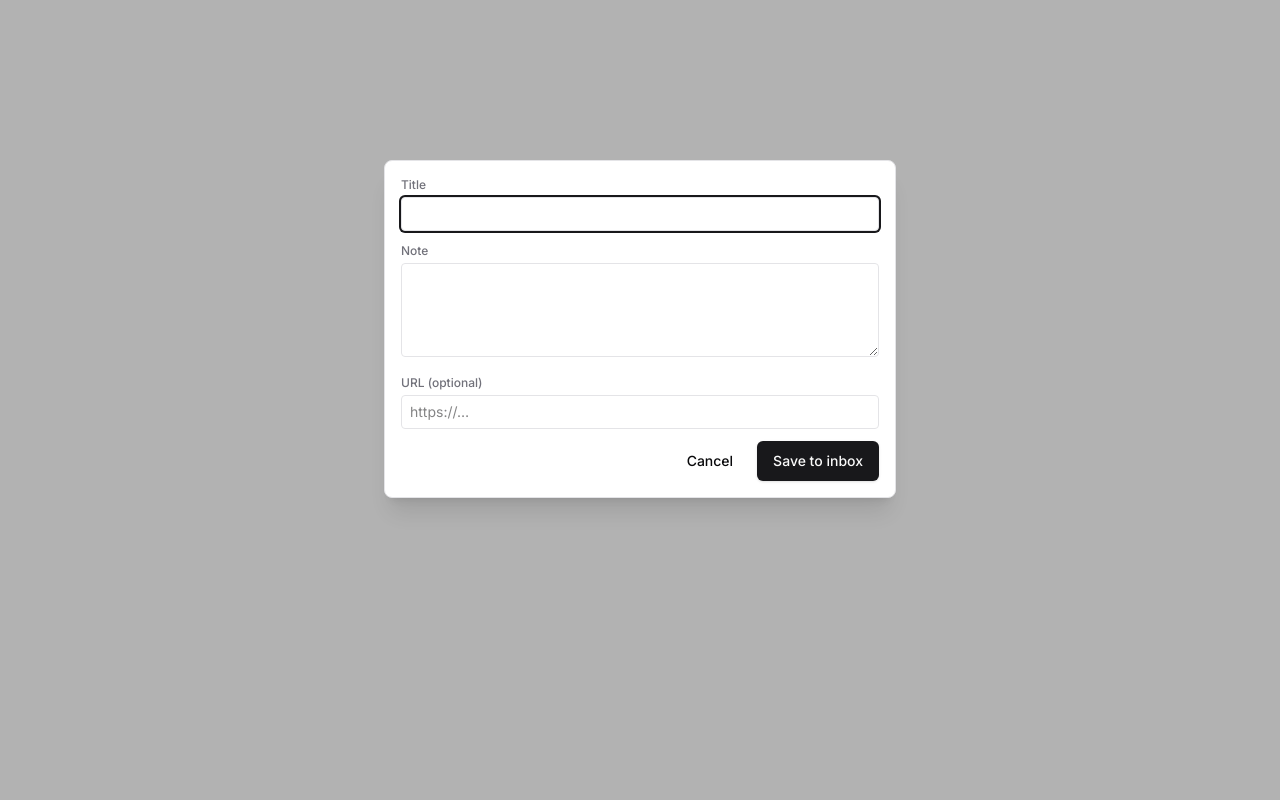
Scenario: <QuickCaptureModal> › stays open + surfaces the error on a non-2xx response
The image size is (1280, 800).
Type "X" into the field labelled "Title".
click(640, 214); type("X")  # box top-left (401, 197), bottom-right (879, 231)
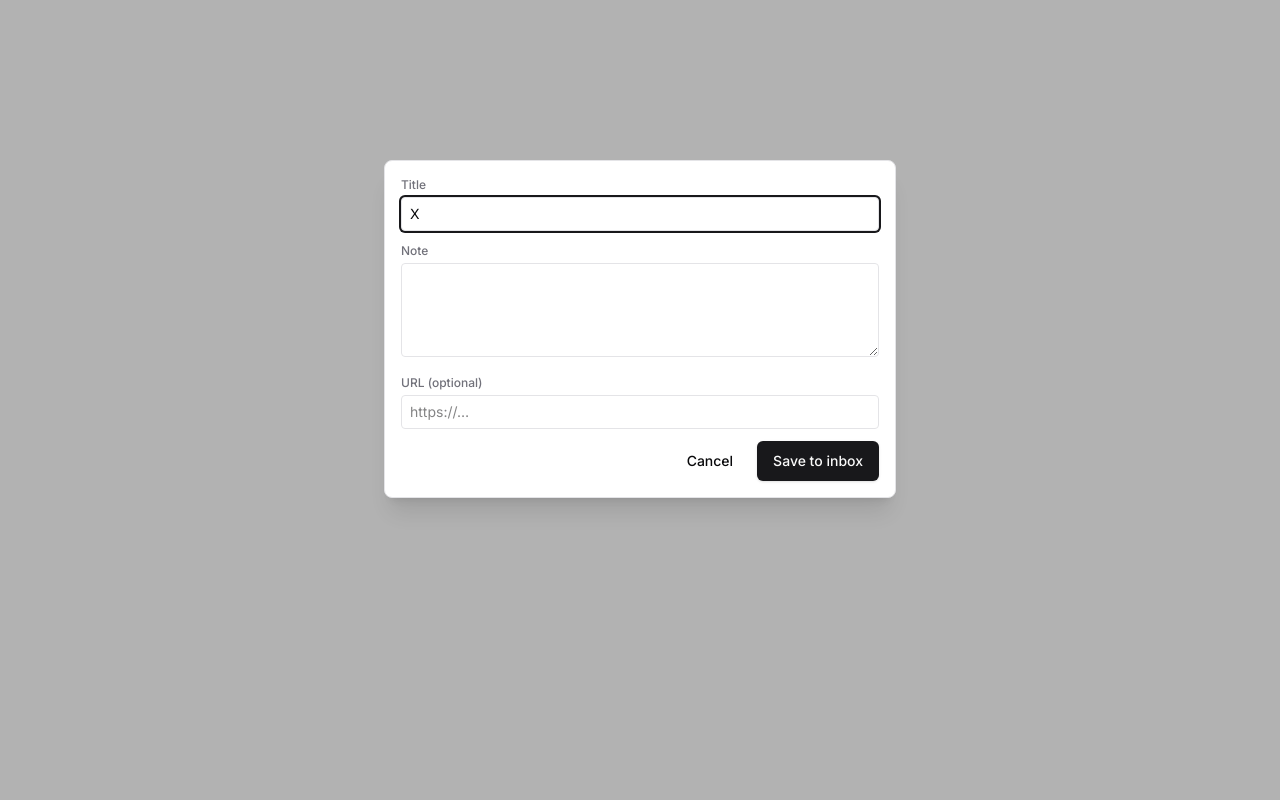
Click the button "Save to inbox".
click(818, 461)  # box top-left (757, 441), bottom-right (879, 481)
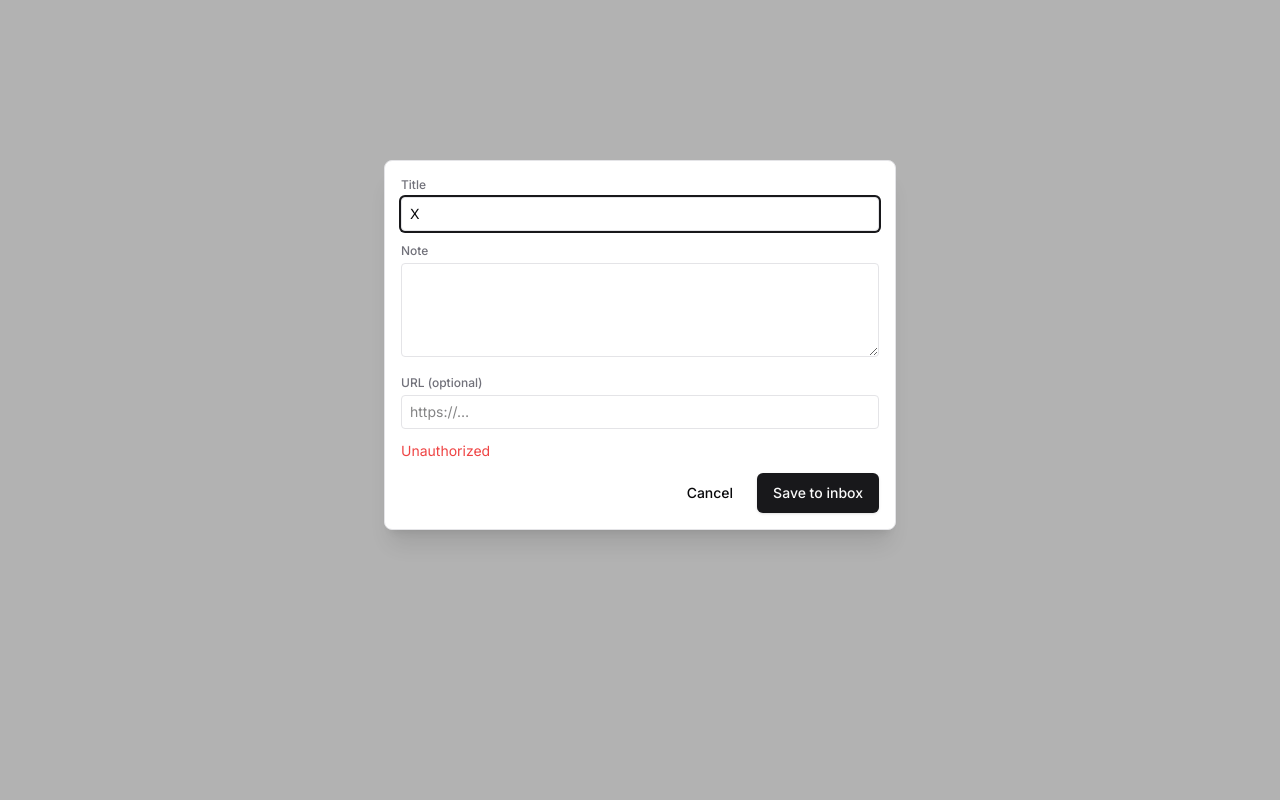
Check: the dialog named "quick capture" is shown, box top-left (384, 160), bottom-right (896, 530)
Check: the text "Unauthorized" is shown, box top-left (401, 442), bottom-right (490, 459)
